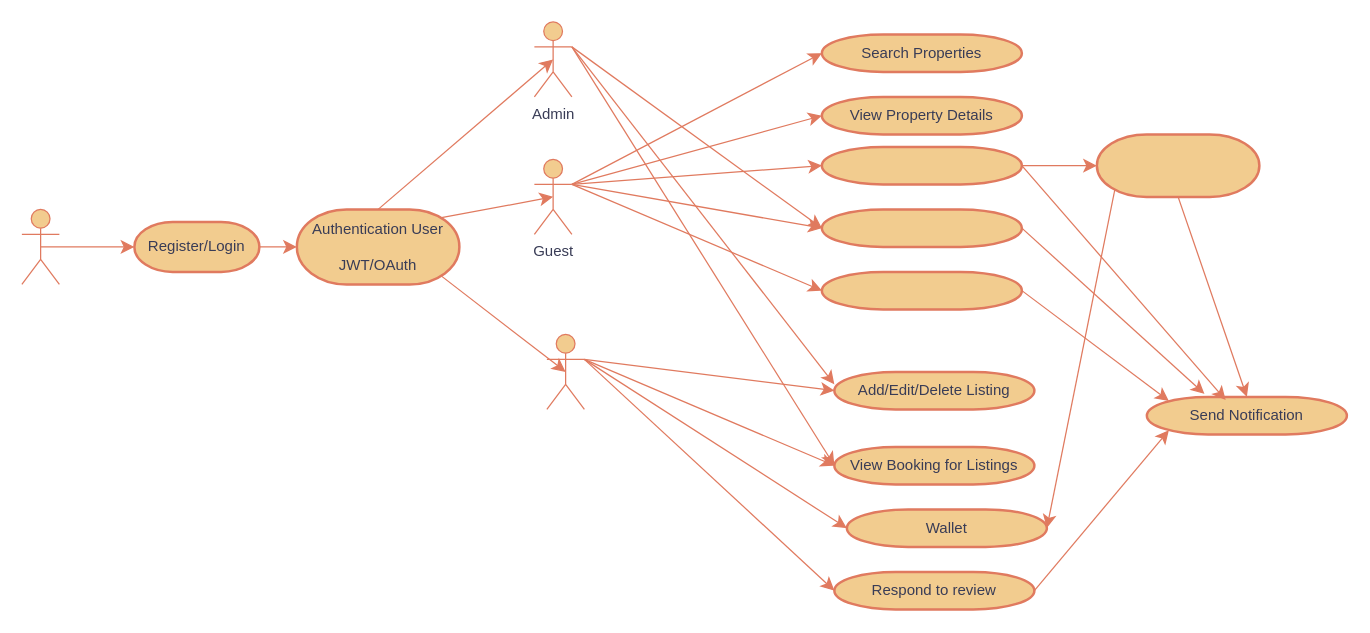
The diagram is 1370 pixels wide and 633 high, and some of its shapes have lost their labels. The shapes that lost their labels are listed below. From the top down, each one's centre as x and y in pixels, then its label:
pixel 921 165: Book Property
pixel 1177 165: Payment Gateway
pixel 40 246: User
pixel 921 228: Cancel Booking
pixel 921 290: Leave Review
pixel 565 371: Host
